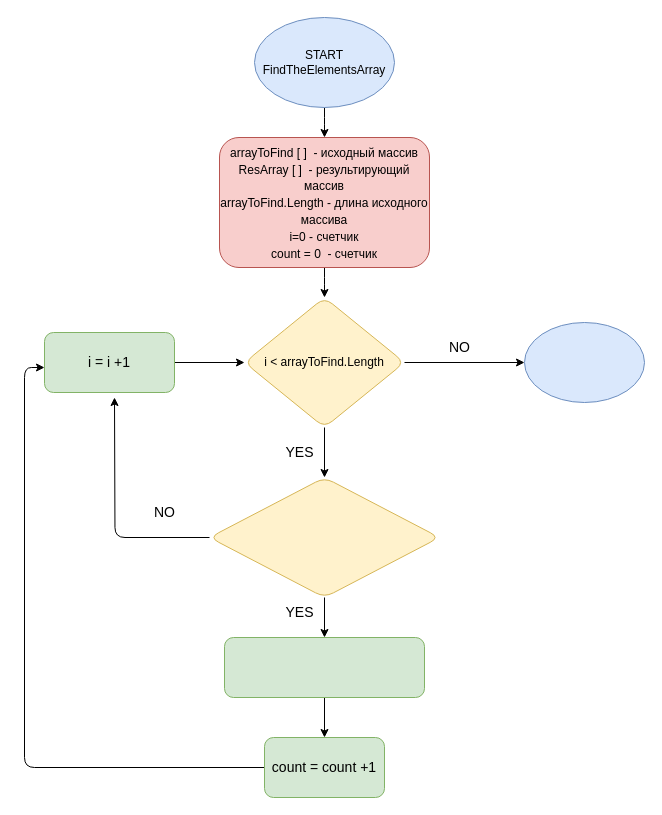
Some shapes in this 662 by 815 pixel diagram are drawn without their labels. Here are the shapes that lost their labels. From the top down, the centre of each, then its label:
At (x=584, y=362): "FINISH".
At (x=324, y=537): "arrayToFind[i].Length < 4".
At (x=324, y=667): "ResArray[count] = arrayToFind[i]".
